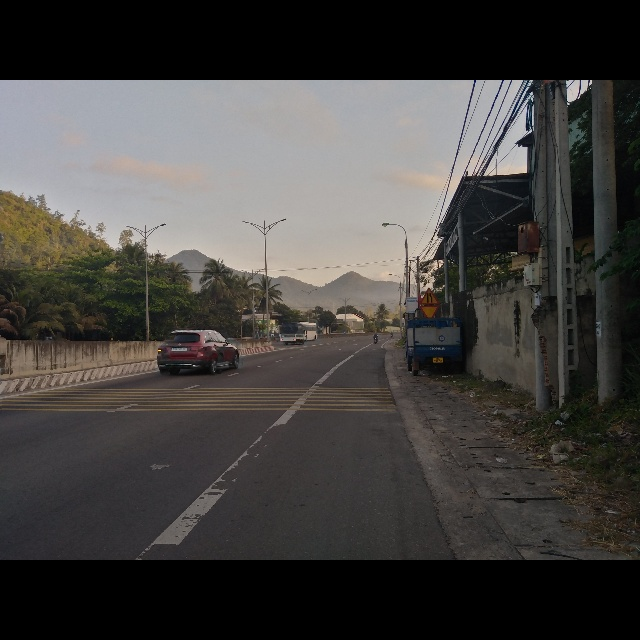Giao nhau với đường ưu tiên: (420, 304, 439, 319)
Đường bị hẹp bên phải: (419, 287, 440, 305)
